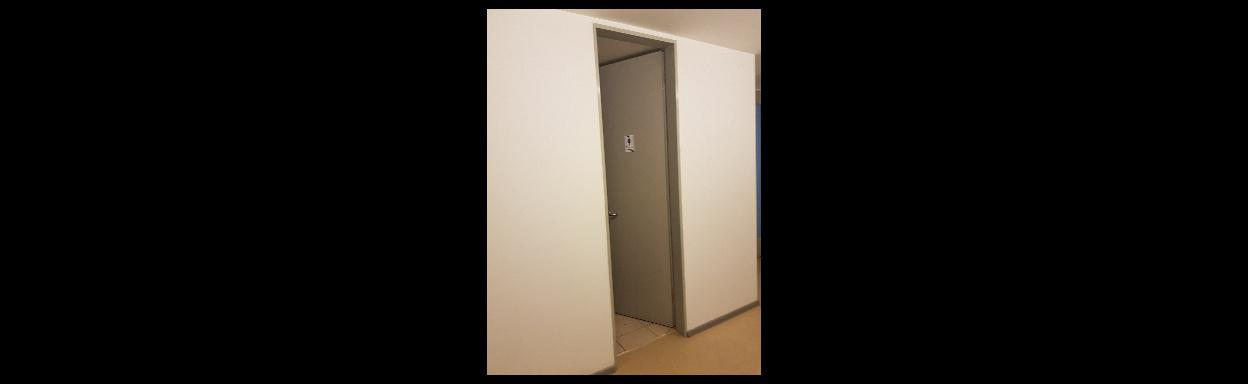Door: (593, 24, 689, 369)
